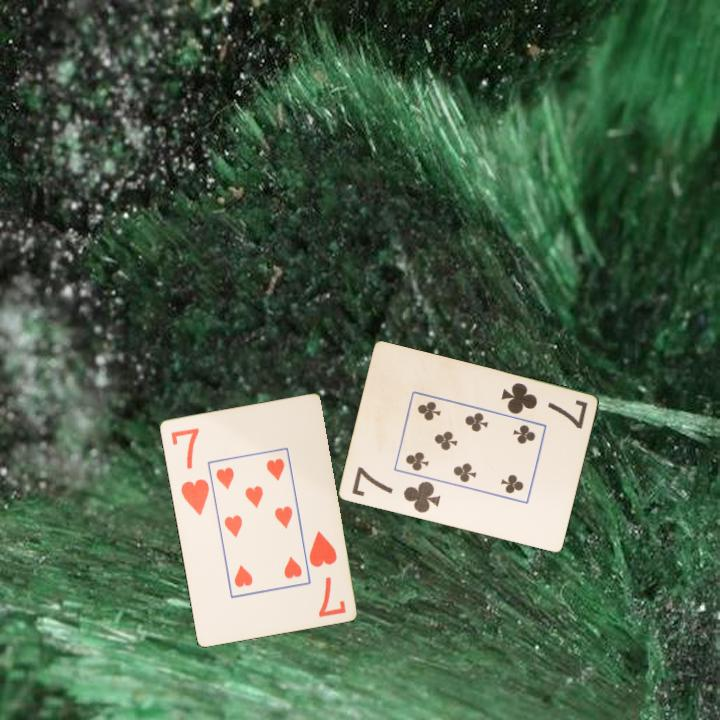7c: (348, 463, 443, 516), (497, 379, 590, 432)
7h: (167, 424, 212, 518), (305, 527, 348, 620)
